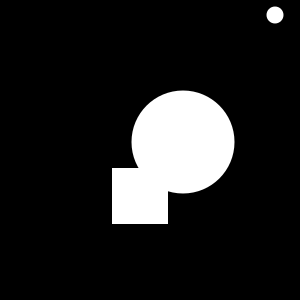circle: (112, 168, 168, 224)
rectangle: (132, 90, 234, 194), (266, 7, 284, 24)
